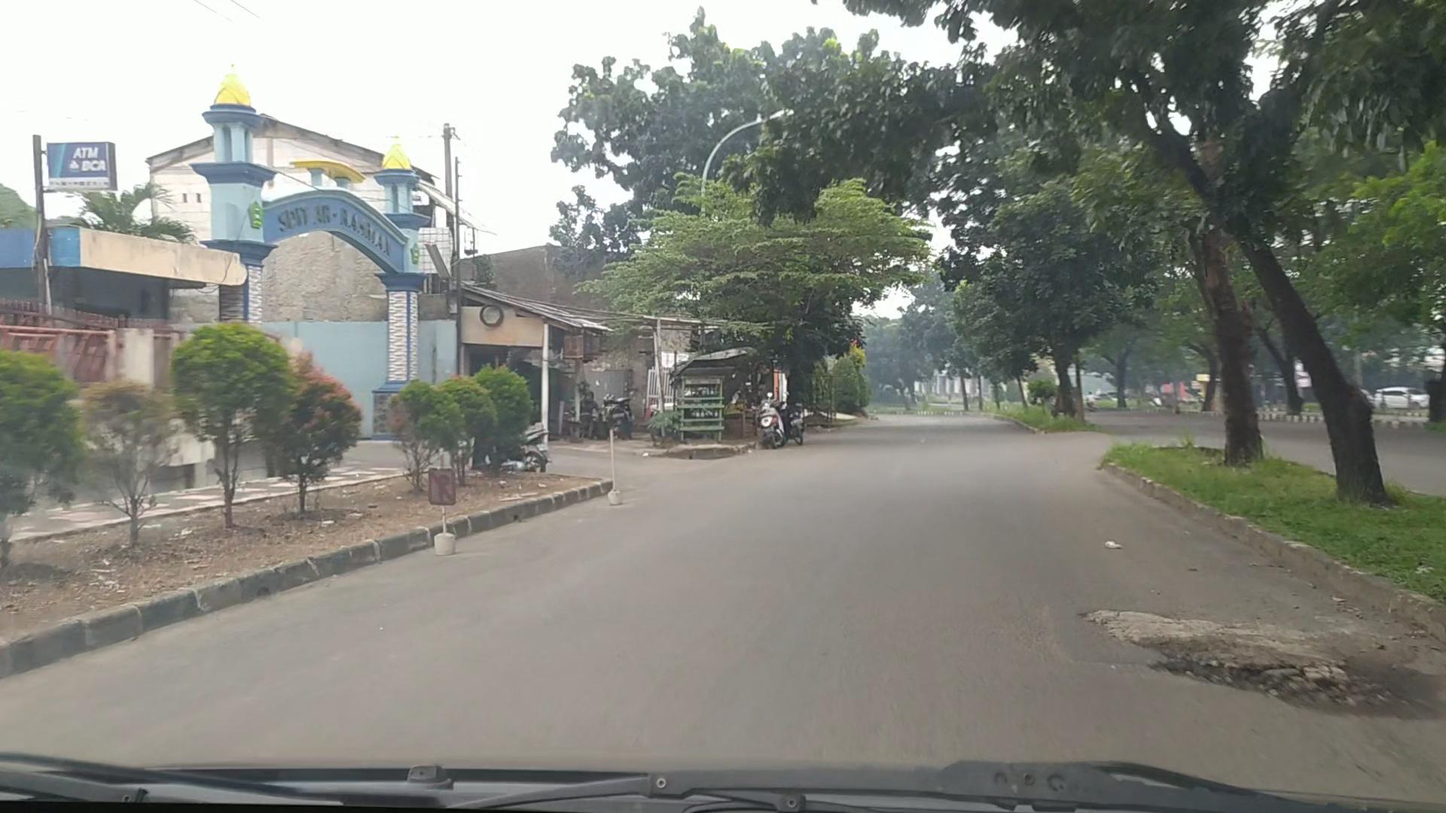pothole: (1079, 602, 1439, 723)
